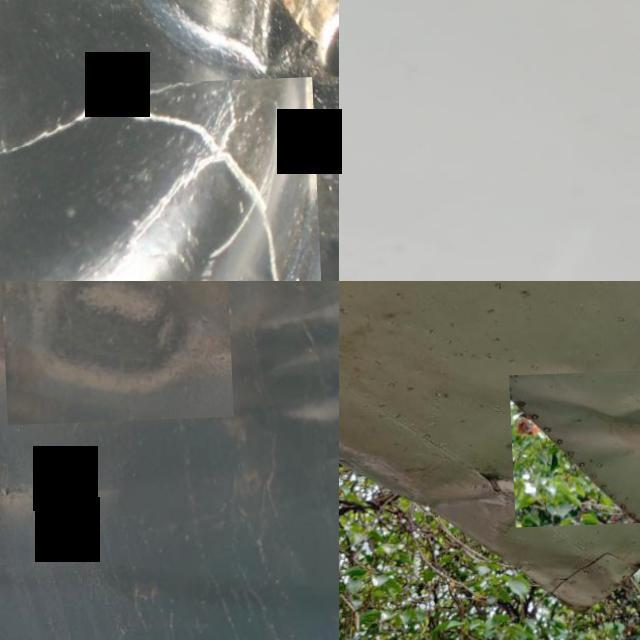Crack: (0, 87, 287, 281), (488, 471, 528, 492), (357, 271, 392, 281)
Dent: (0, 281, 231, 426), (506, 369, 640, 529), (339, 429, 476, 512), (510, 538, 624, 615), (0, 446, 66, 546)
